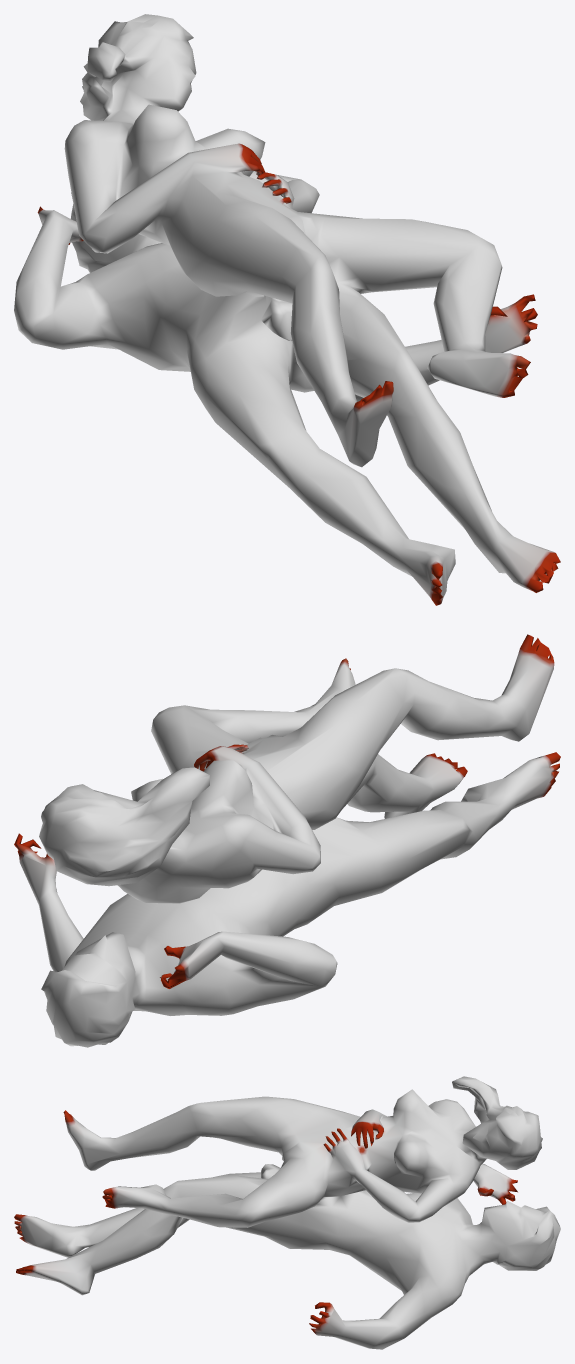
File: position4_low.fbx
3 renders of one model, top to bottom at view 1: azimuth 30°, elevation 25°; view 2: azimuth 150°, elevation 25°; view 3: azimuth 270°, elevation 25°, orthographic. The views are drawn at different scales.
Visible parts, largest first — view 1: lying_female; view 2: lying_female; view 3: lying_female.
Boxes of the visible parts, left/top/right/bottom form: lying_female: left=14, top=14, right=560, bottom=605; lying_female: left=14, top=634, right=560, bottom=1047; lying_female: left=14, top=1076, right=560, bottom=1349.
Size of the model in its own units: 0.4179 by 0.3258 by 0.75.
